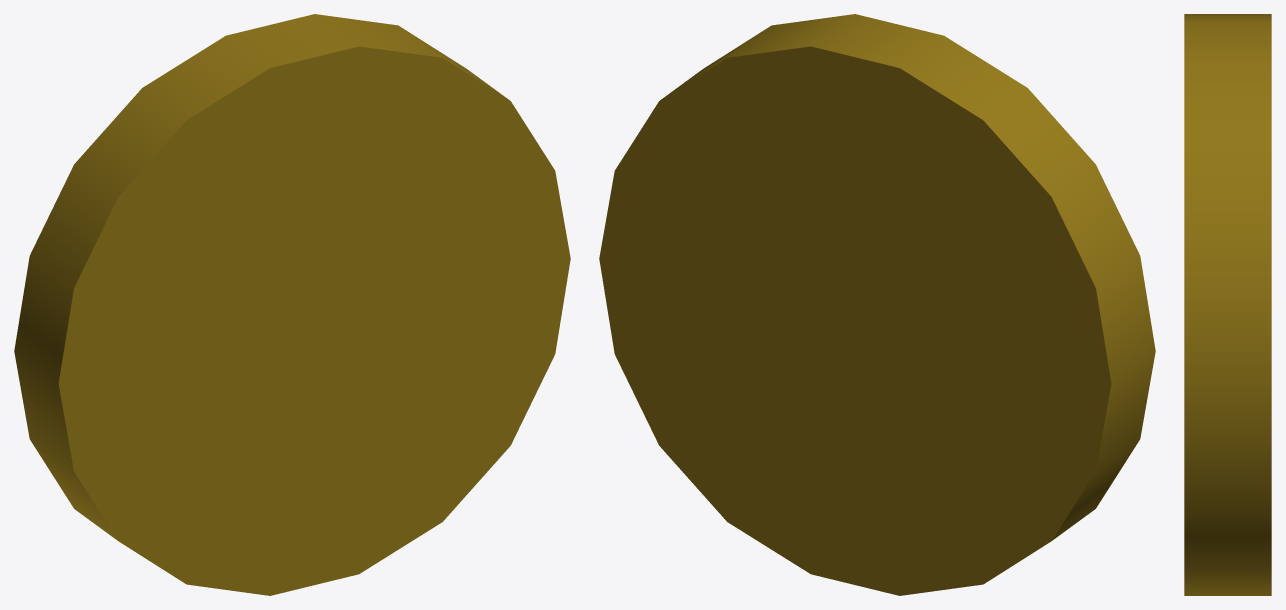
3 renders of one model, left to right at view 1: azimuth 30°, elevation 25°; view 2: azimuth 150°, elevation 25°; view 3: azimuth 270°, elevation 25°, orthographic.
Visible parts, largest first — view 1: Cylinder22-FACES.Mesh; view 2: Cylinder22-FACES.Mesh; view 3: Cylinder22-FACES.Mesh.
Part boxes in pixels (x1,y1,x2,y2): Cylinder22-FACES.Mesh: (14, 14, 570, 595); Cylinder22-FACES.Mesh: (599, 14, 1155, 595); Cylinder22-FACES.Mesh: (1184, 14, 1271, 595).
Size of the model in its own units: 0.0216 by 0.0212 by 0.00323.
